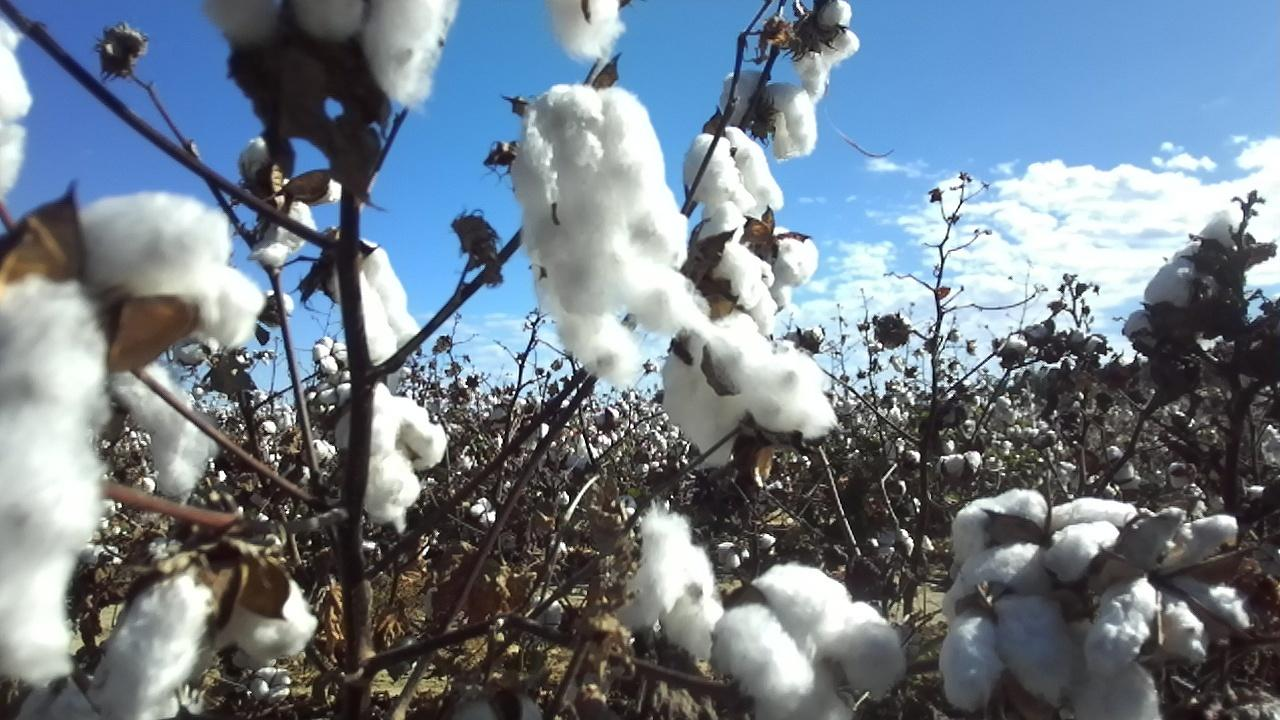cotton_ready: (0, 190, 267, 688), (509, 86, 710, 387), (939, 522, 1163, 720), (714, 562, 905, 720), (196, 0, 459, 114), (24, 569, 212, 720), (661, 314, 839, 473), (1089, 510, 1254, 676), (241, 131, 370, 267), (88, 363, 216, 497), (624, 507, 725, 664), (337, 381, 445, 524), (325, 237, 425, 391), (184, 555, 319, 660), (954, 492, 1132, 550), (694, 206, 779, 327), (1146, 210, 1239, 314), (720, 68, 820, 160), (688, 125, 786, 210), (796, 0, 861, 95), (0, 18, 32, 205), (552, 0, 626, 57), (764, 223, 819, 290), (445, 692, 545, 720), (1121, 307, 1180, 344)
